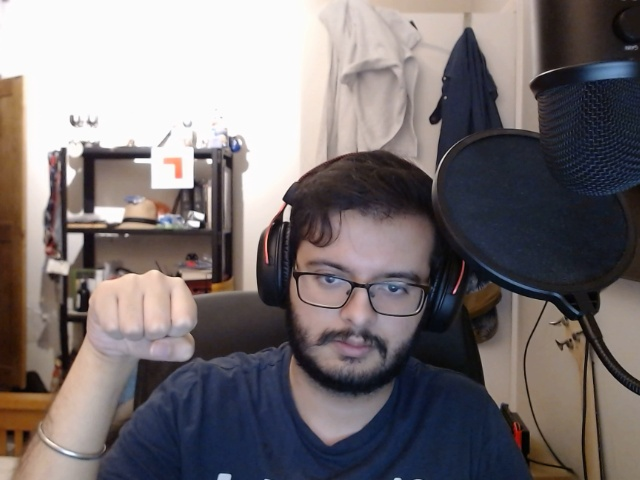Yes: (74, 265, 213, 374)
